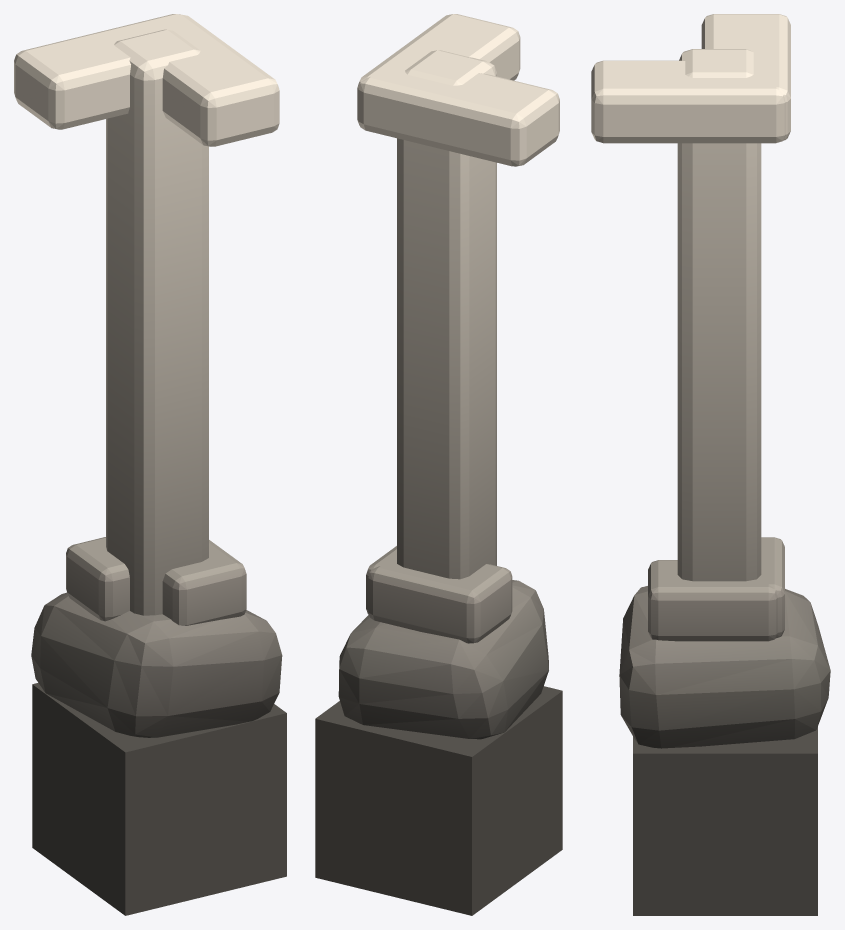
The model's file is SM_VK_Corner_Wattle.fbx.
3 renders of one model, left to right at view 1: azimuth 30°, elevation 25°; view 2: azimuth 150°, elevation 25°; view 3: azimuth 270°, elevation 25°, orthographic. The views are drawn at different scales.
Parts seen in each view (by area): view 1: SM_VK_Corner_Wattle.001; view 2: SM_VK_Corner_Wattle.001; view 3: SM_VK_Corner_Wattle.001.
Part boxes in pixels (x1=…): SM_VK_Corner_Wattle.001: x1=14, y1=14, x2=286, y2=915; SM_VK_Corner_Wattle.001: x1=315, y1=14, x2=562, y2=915; SM_VK_Corner_Wattle.001: x1=591, y1=14, x2=830, y2=915.
Size of the model in its own units: 0.7607 by 3.01 by 0.8028.
